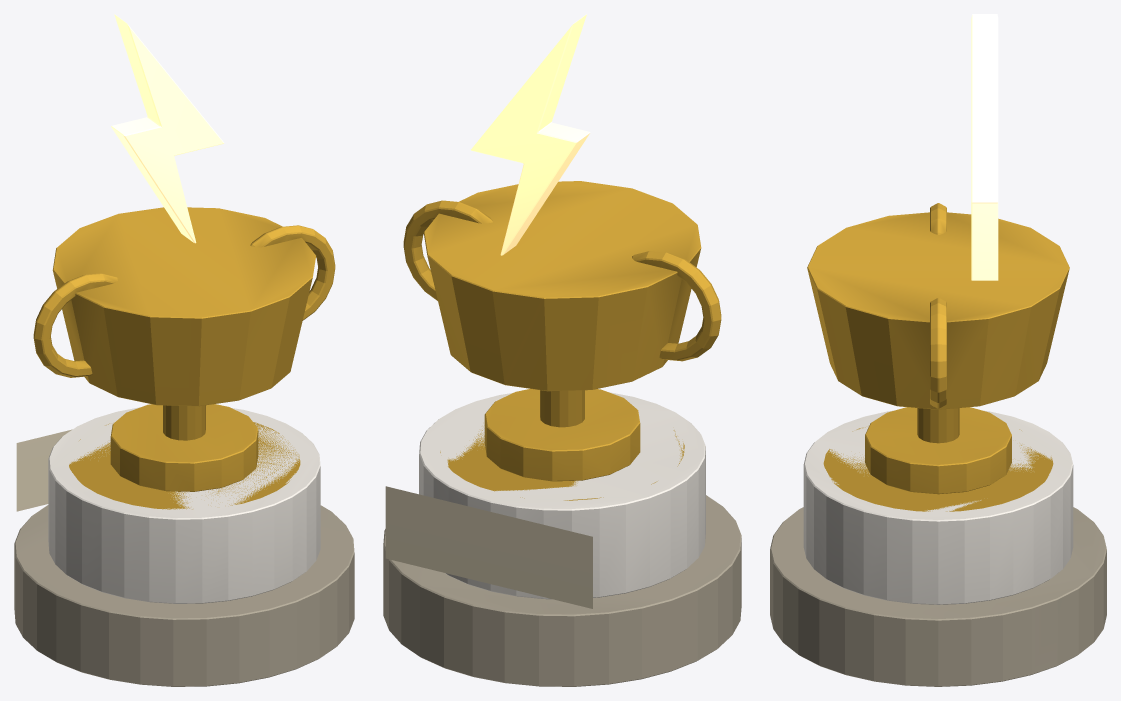
Rendered from trophy_reaction.glb.
The picture shows the model from 3 angles, left to right: view 1: azimuth 30°, elevation 25°; view 2: azimuth 150°, elevation 25°; view 3: azimuth 270°, elevation 25°; orthographic projection. The views are drawn at different scales.
Parts seen in each view (by area): view 1: common_pedestal, symbol, trophy_plate; view 2: symbol, common_pedestal, trophy_plate; view 3: common_pedestal, symbol.
Boxes of the visible parts, <box> form: common_pedestal: <box>14,407,354,686</box>; symbol: <box>33,14,335,491</box>; trophy_plate: <box>16,429,72,511</box>; symbol: <box>403,14,721,481</box>; common_pedestal: <box>383,392,741,686</box>; trophy_plate: <box>385,486,592,608</box>; common_pedestal: <box>770,410,1106,686</box>; symbol: <box>807,14,1069,494</box>.
Bounding box in the file's own units: 0.9175 × 1.72 × 0.9.
